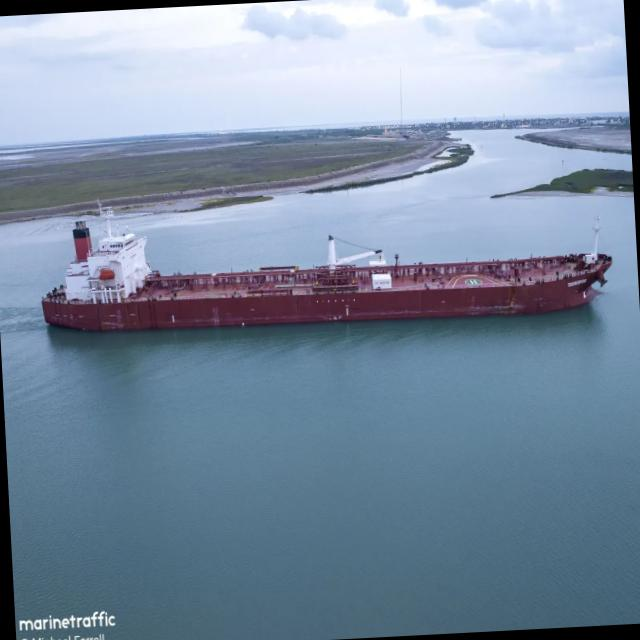Tanker: (42, 220, 612, 331)
